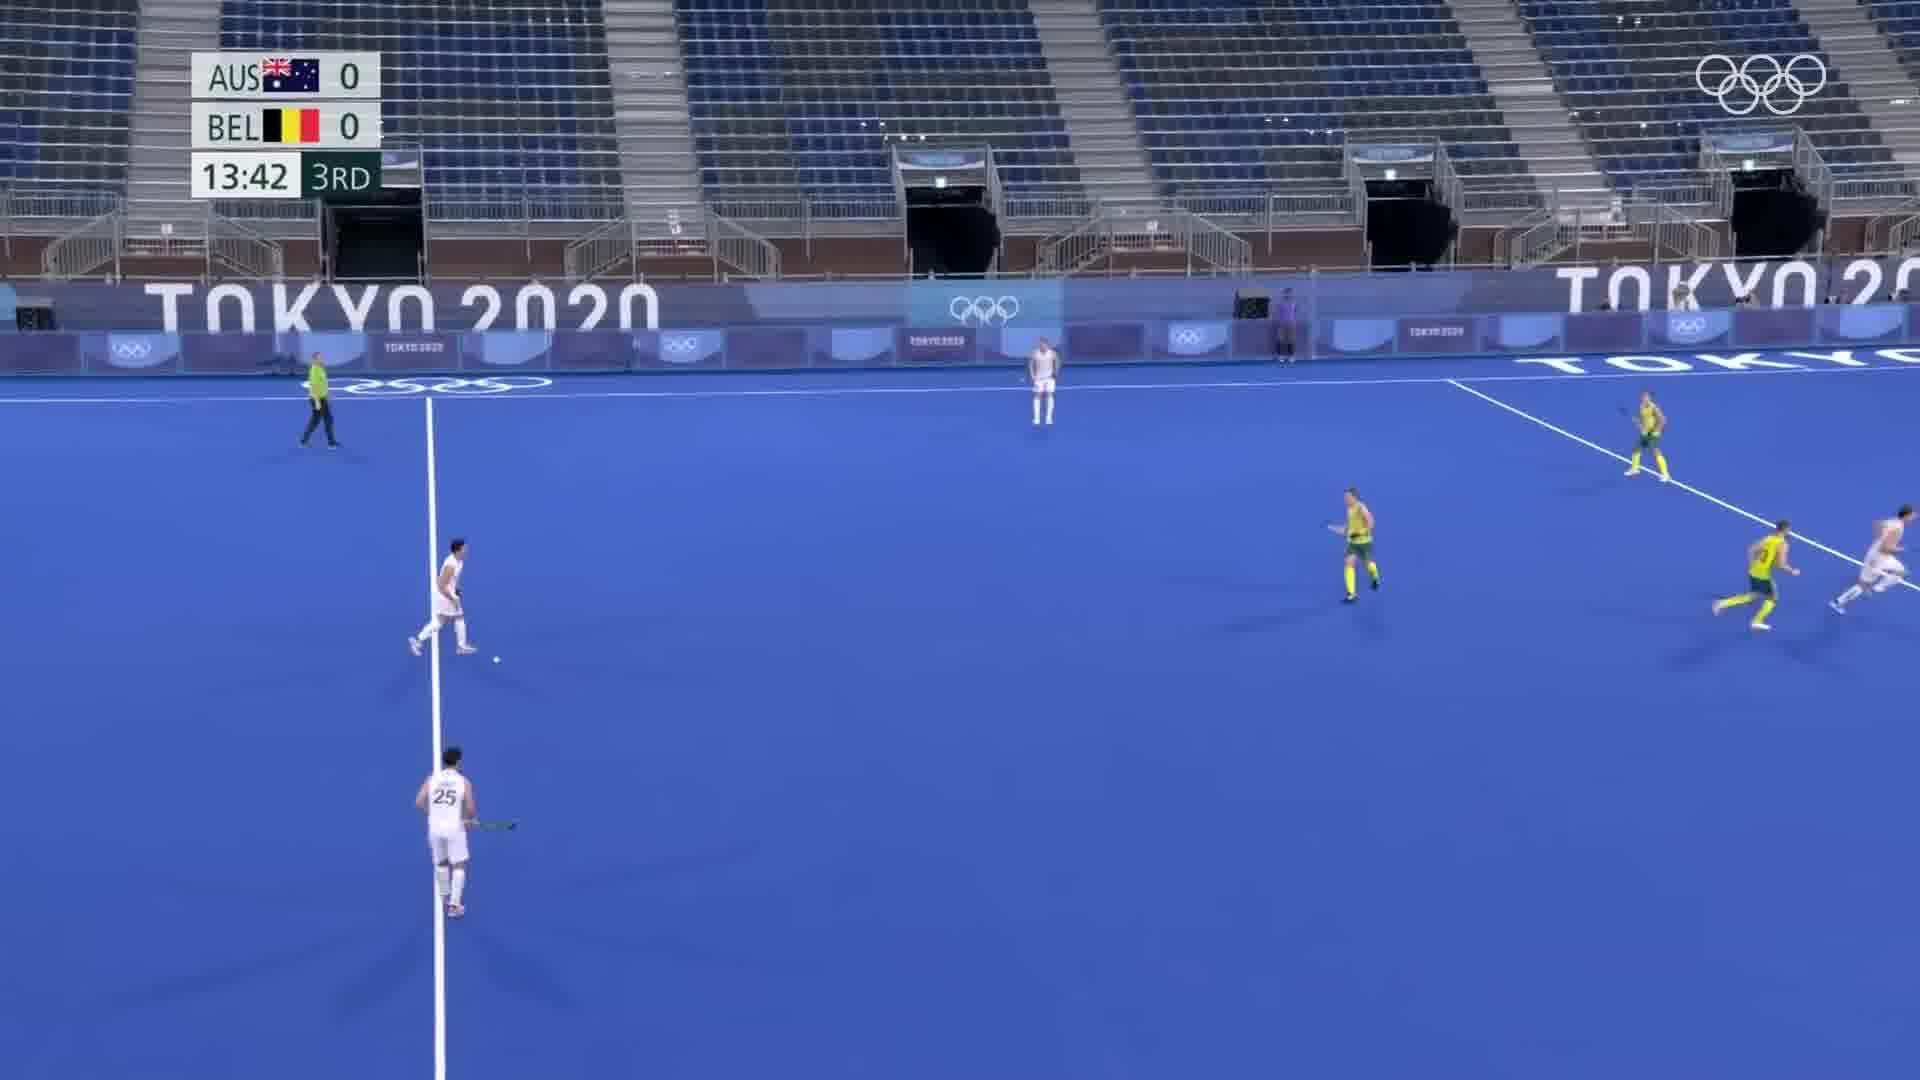ball: (489, 647, 506, 673)
